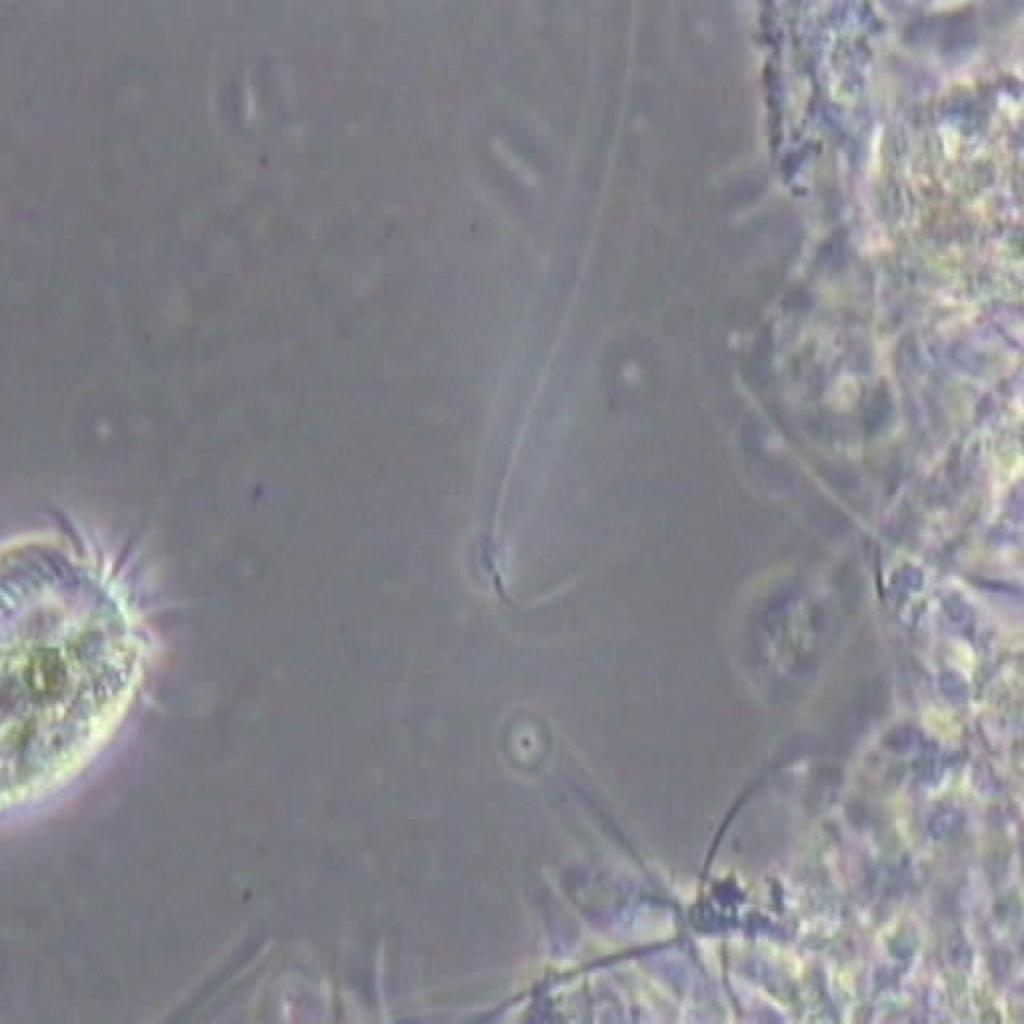Euplotes: (0, 475, 198, 864)
